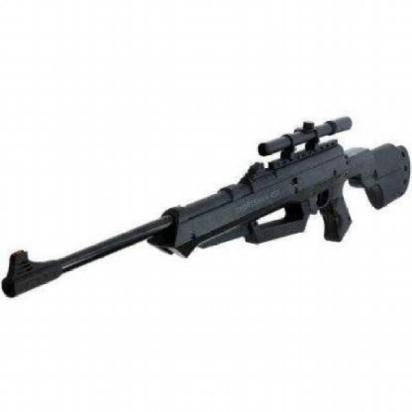Gun: (0, 117, 409, 296)
